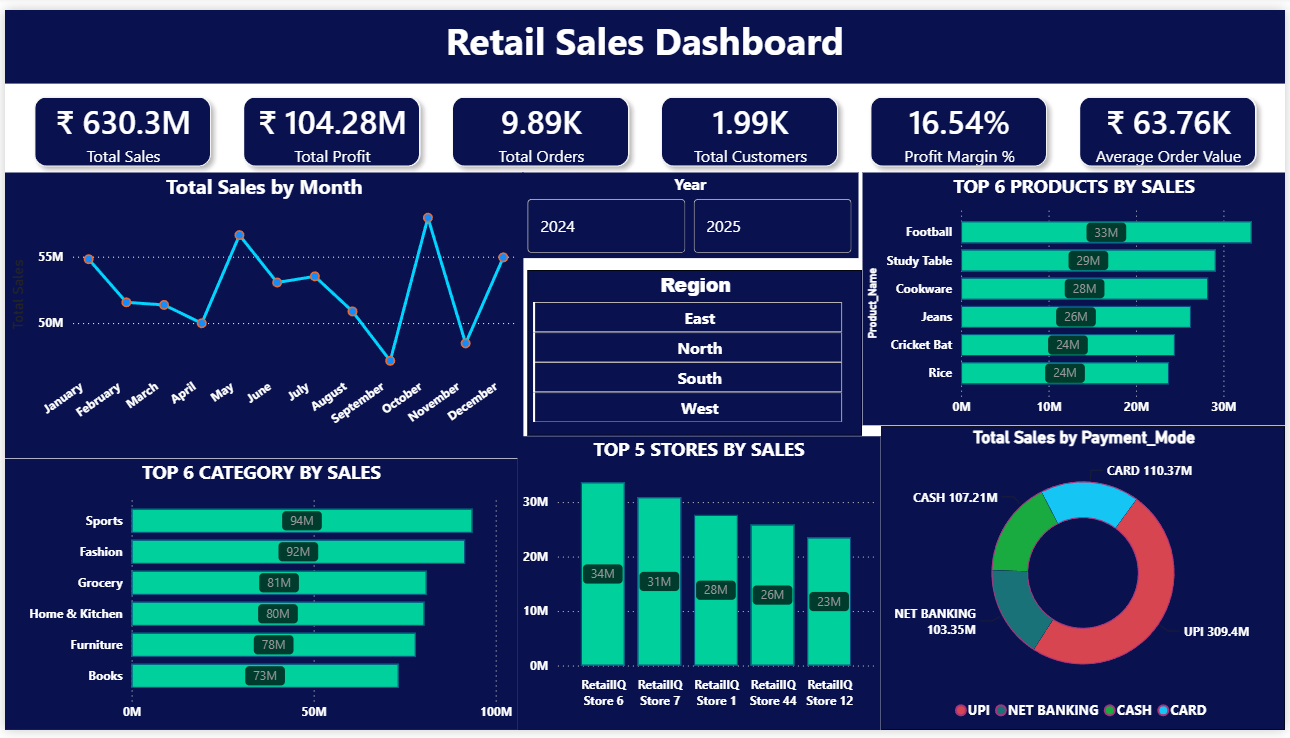

What the dashboard file says about the page in this screenshot:
{"tool":"powerbi","page":{"name":"Sale_dashboard","canvas":[1280,720],"ordinal":0},"visuals":[{"type":"cardVisual","fields":{"Data":["fact_sale.Total Sales","fact_sale.Total Profit","fact_sale.Total Orders","fact_sale.Total Customers","fact_sale.Profit Margin %","fact_sale.Average Order Value"]},"box":[0,57.1,1280,128.6],"z":0},{"type":"lineChart","fields":{"Category":["fact_sale.Order_Date.Variation.Date Hierarchy.Year","fact_sale.Order_Date.Variation.Date Hierarchy.Quarter","fact_sale.Order_Date.Variation.Date Hierarchy.Month","fact_sale.Order_Date.Variation.Date Hierarchy.Day"],"Y":["fact_sale.Total Sales"]},"box":[0,162.9,518.6,285.7],"z":1000},{"type":"clusteredBarChart","title":"TOP 6 CATEGORY BY SALES ","fields":{"Category":["product_table.Category"],"Y":["fact_sale.Total Sales"]},"box":[0,448.6,512.9,271.4],"z":2000},{"type":"donutChart","fields":{"Category":["fact_sale.Payment_Mode"],"Y":["fact_sale.Total Sales"]},"box":[875.7,415.7,404.3,304.3],"z":3000},{"type":"clusteredBarChart","title":"TOP 6 PRODUCTS BY SALES","fields":{"Category":["product_table.Product_Name"],"Y":["fact_sale.Total Sales"]},"box":[857.1,162.9,422.9,252.9],"z":4000},{"type":"textbox","box":[0,0,1280,73.3],"z":5000},{"type":"advancedSlicerVisual","fields":{"Values":["fact_sale.Order_Date.Variation.Date Hierarchy.Year"]},"box":[517.1,162.9,335.7,85.7],"z":6000},{"type":"listSlicer","fields":{"Values":["customer_table.Region"]},"box":[522.9,260,334.3,165.7],"z":7000},{"type":"clusteredColumnChart","title":"TOP 5 STORES BY SALES","fields":{"Category":["store_table.Store_Name"],"Y":["fact_sale.Total Sales"]},"box":[512.9,425.7,362.9,294.3],"z":8000}]}

Visuals, with their boxes in screenshot pixels (x1, y1, x2, y2), scaled from the page's 1280x720 canvas onto the 1290x738 screenshot:
cardVisual - fact_sale.Total Sales x fact_sale.Total Profit: [x1=0, y1=59, x2=1289, y2=190]
lineChart - fact_sale.Order_Date.Variation.Date Hierarchy.Year x fact_sale.Order_Date.Variation.Date Hierarchy.Quarter: [x1=0, y1=167, x2=523, y2=460]
"TOP 6 CATEGORY BY SALES " clusteredBarChart: [x1=0, y1=460, x2=517, y2=737]
donutChart - fact_sale.Payment_Mode x fact_sale.Total Sales: [x1=883, y1=426, x2=1289, y2=737]
"TOP 6 PRODUCTS BY SALES" clusteredBarChart: [x1=864, y1=167, x2=1289, y2=426]
textbox: [x1=0, y1=0, x2=1289, y2=75]
advancedSlicerVisual - fact_sale.Order_Date.Variation.Date Hierarchy.Year: [x1=521, y1=167, x2=859, y2=255]
listSlicer - customer_table.Region: [x1=527, y1=266, x2=864, y2=436]
"TOP 5 STORES BY SALES" clusteredColumnChart: [x1=517, y1=436, x2=883, y2=737]
